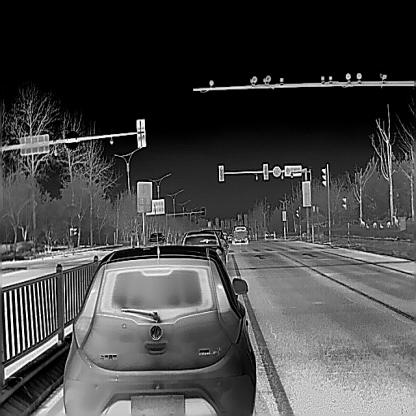car: (62, 246, 256, 416), (180, 230, 226, 268), (148, 232, 165, 246)
truck: (230, 224, 248, 242)
